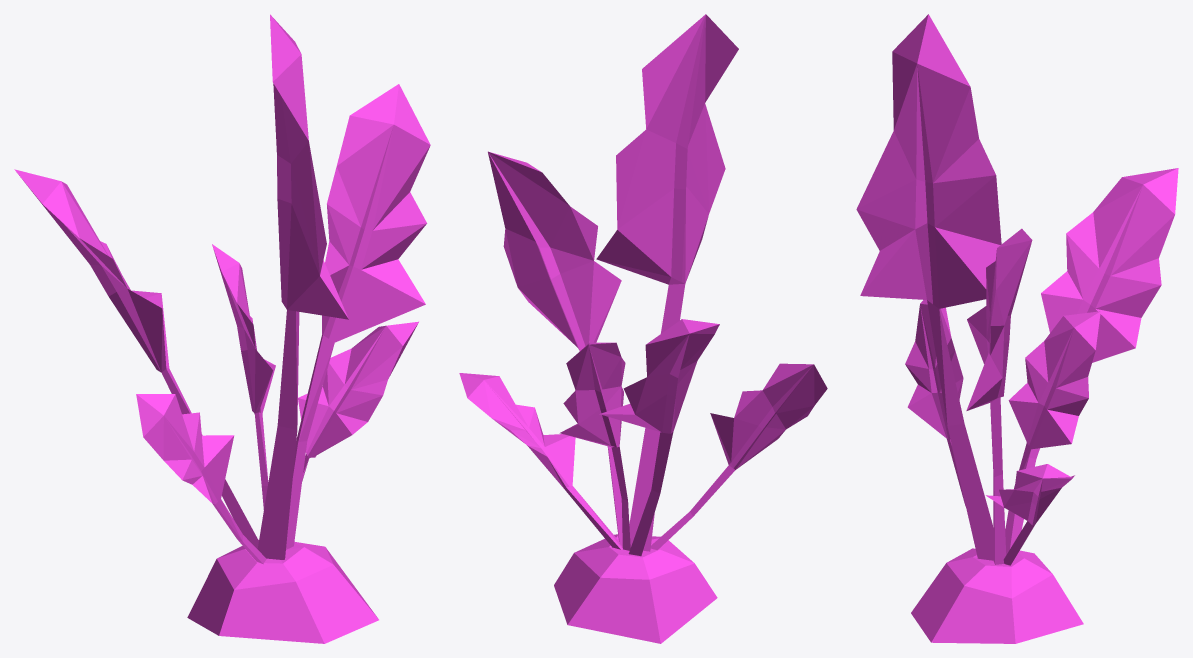
File: SM_Beetroot_Plant_Ripe_B.fbx
The picture shows the model from 3 angles, left to right: view 1: azimuth 30°, elevation 25°; view 2: azimuth 150°, elevation 25°; view 3: azimuth 270°, elevation 25°; orthographic projection. The views are drawn at different scales.
Visible parts, largest first — view 1: SM_Beetroot_Plant_Ripe_B; view 2: SM_Beetroot_Plant_Ripe_B; view 3: SM_Beetroot_Plant_Ripe_B.
Boxes of the visible parts, box(x1,y1,x2,y2) form: SM_Beetroot_Plant_Ripe_B: box(14, 14, 430, 643); SM_Beetroot_Plant_Ripe_B: box(459, 14, 827, 643); SM_Beetroot_Plant_Ripe_B: box(856, 14, 1178, 643).
Size of the model in its own units: 0.4711 by 0.8509 by 0.4196.
